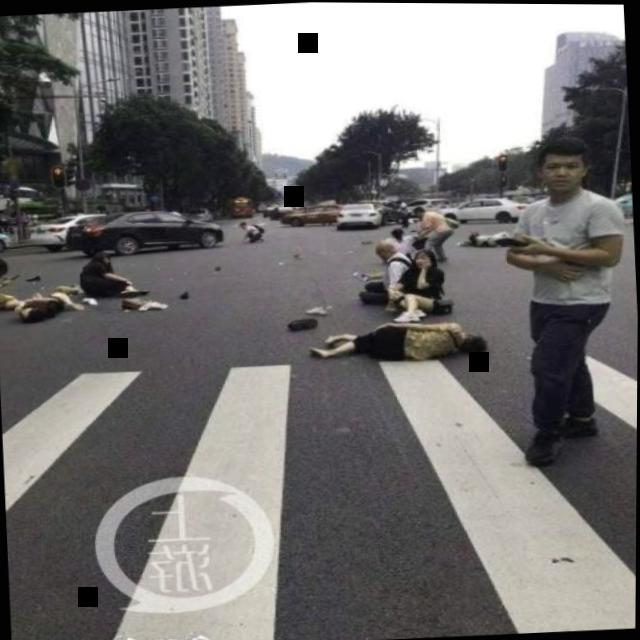Fall-Detected: (0, 249, 30, 310)
